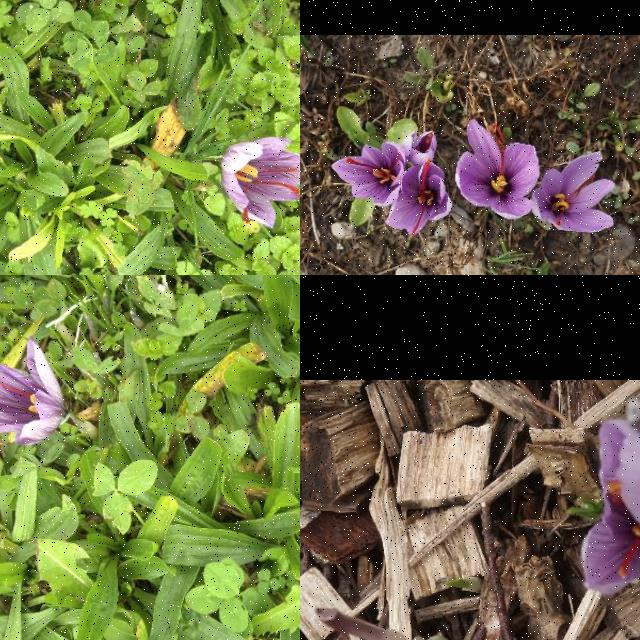flower: (580, 419, 640, 595), (456, 119, 542, 221), (0, 338, 70, 443), (222, 136, 300, 229), (531, 150, 617, 234), (384, 159, 454, 239), (330, 141, 406, 209), (404, 130, 438, 166)
